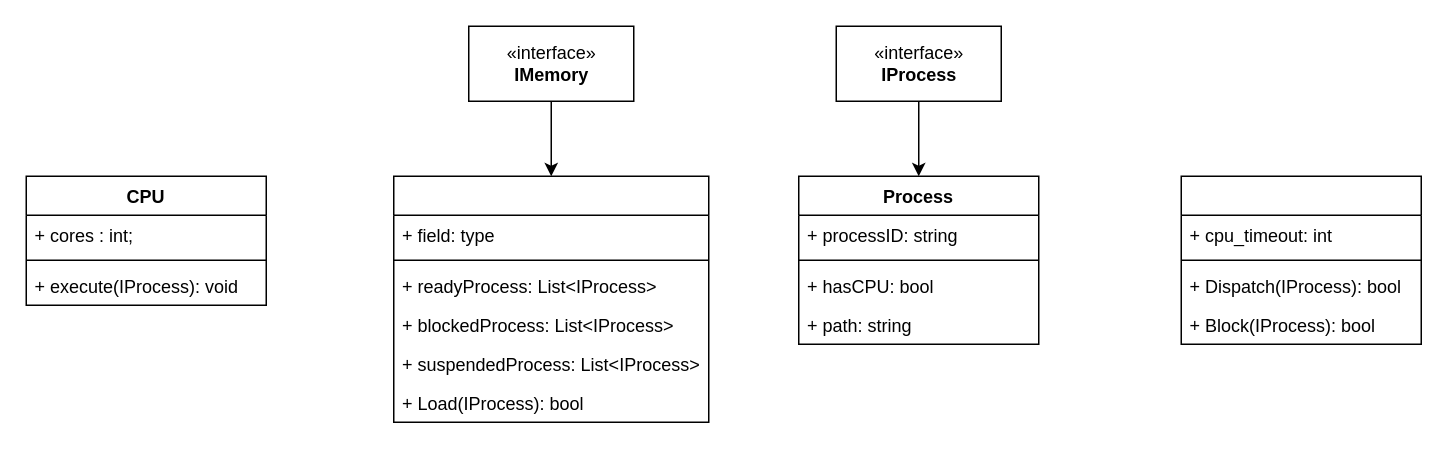
The diagram is 1448 pixels wide and 453 high, and some of its shapes have lost their labels. Here are the shapes that lost their labels. From the top down, the box of each, then its label:
(1180, 175, 1421, 344): Scheduller
(392, 175, 709, 422): Memory
